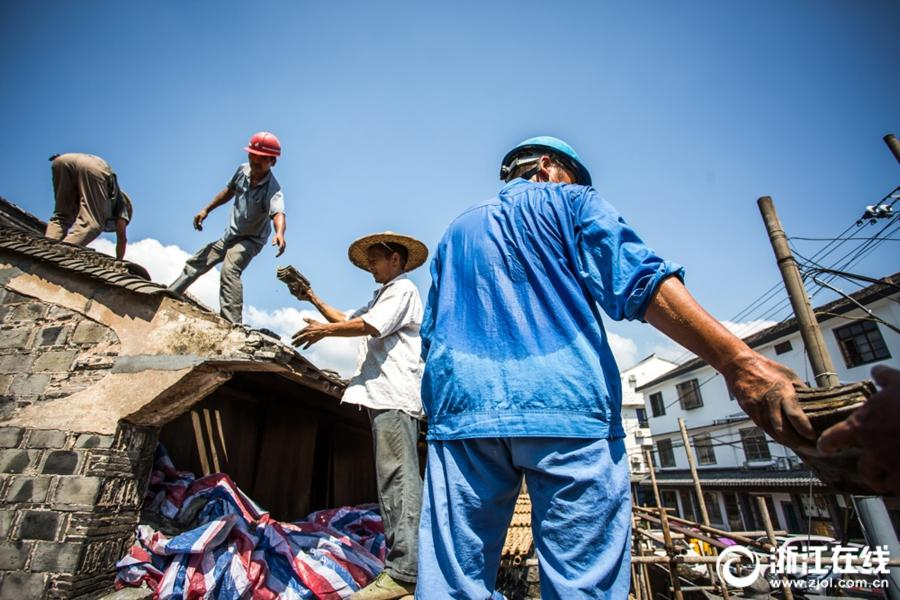helmet: (500, 136, 596, 192), (245, 131, 279, 162)
